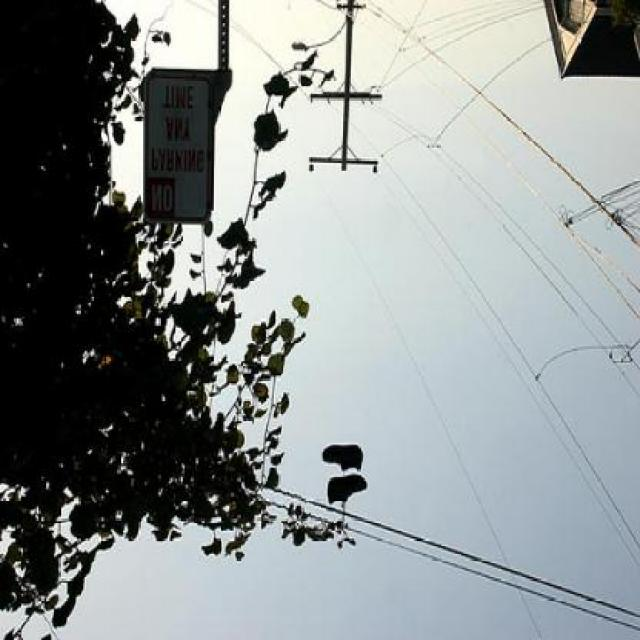pole: (315, 0, 367, 178)
